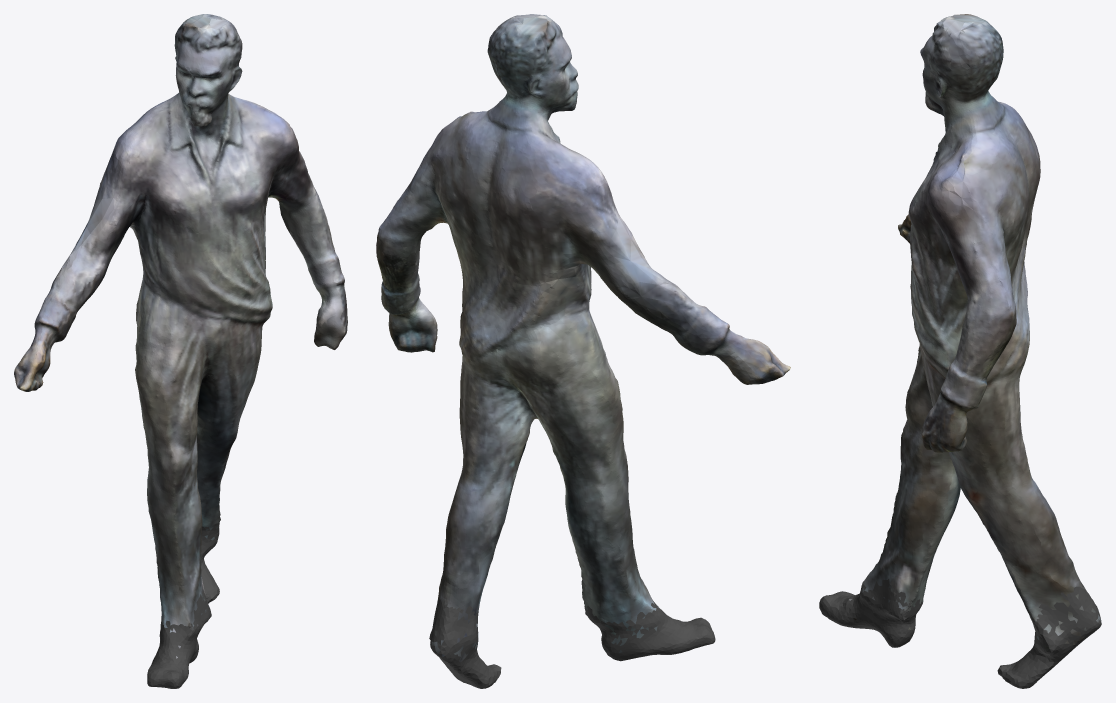
File: dragao_do_mar_sem_piso_comp.glb
3 views of the same model, side by side, from view 1: azimuth 30°, elevation 25°; view 2: azimuth 150°, elevation 25°; view 3: azimuth 270°, elevation 25° (orthographic). The views are drawn at different scales.
Visible parts, largest first — view 1: mesh; view 2: mesh; view 3: mesh.
Part boxes in pixels (x1=…): mesh: x1=14, y1=14, x2=347, y2=688; mesh: x1=376, y1=14, x2=790, y2=688; mesh: x1=819, y1=14, x2=1101, y2=688.
Size of the model in its own units: 1.06 by 1.74 by 0.683.
Materials: 1 (1 with a texture image).
